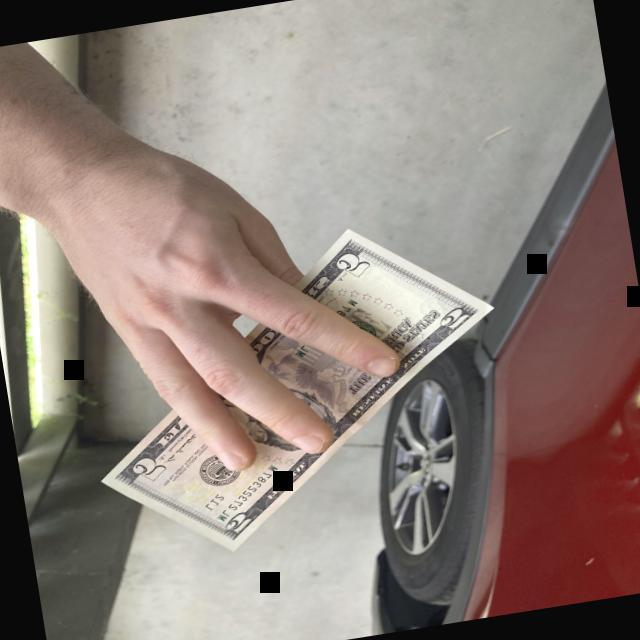five: (99, 228, 495, 551)
